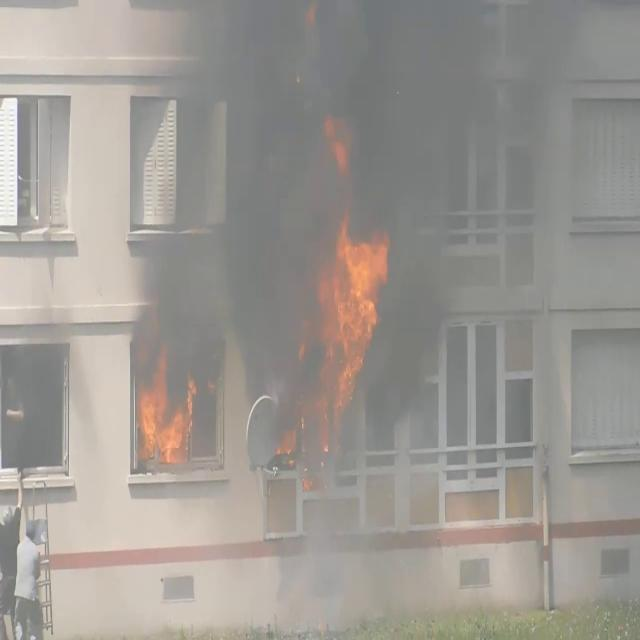Fire: (318, 182, 391, 406), (134, 348, 196, 468)
Smoke: (132, 2, 619, 482)
